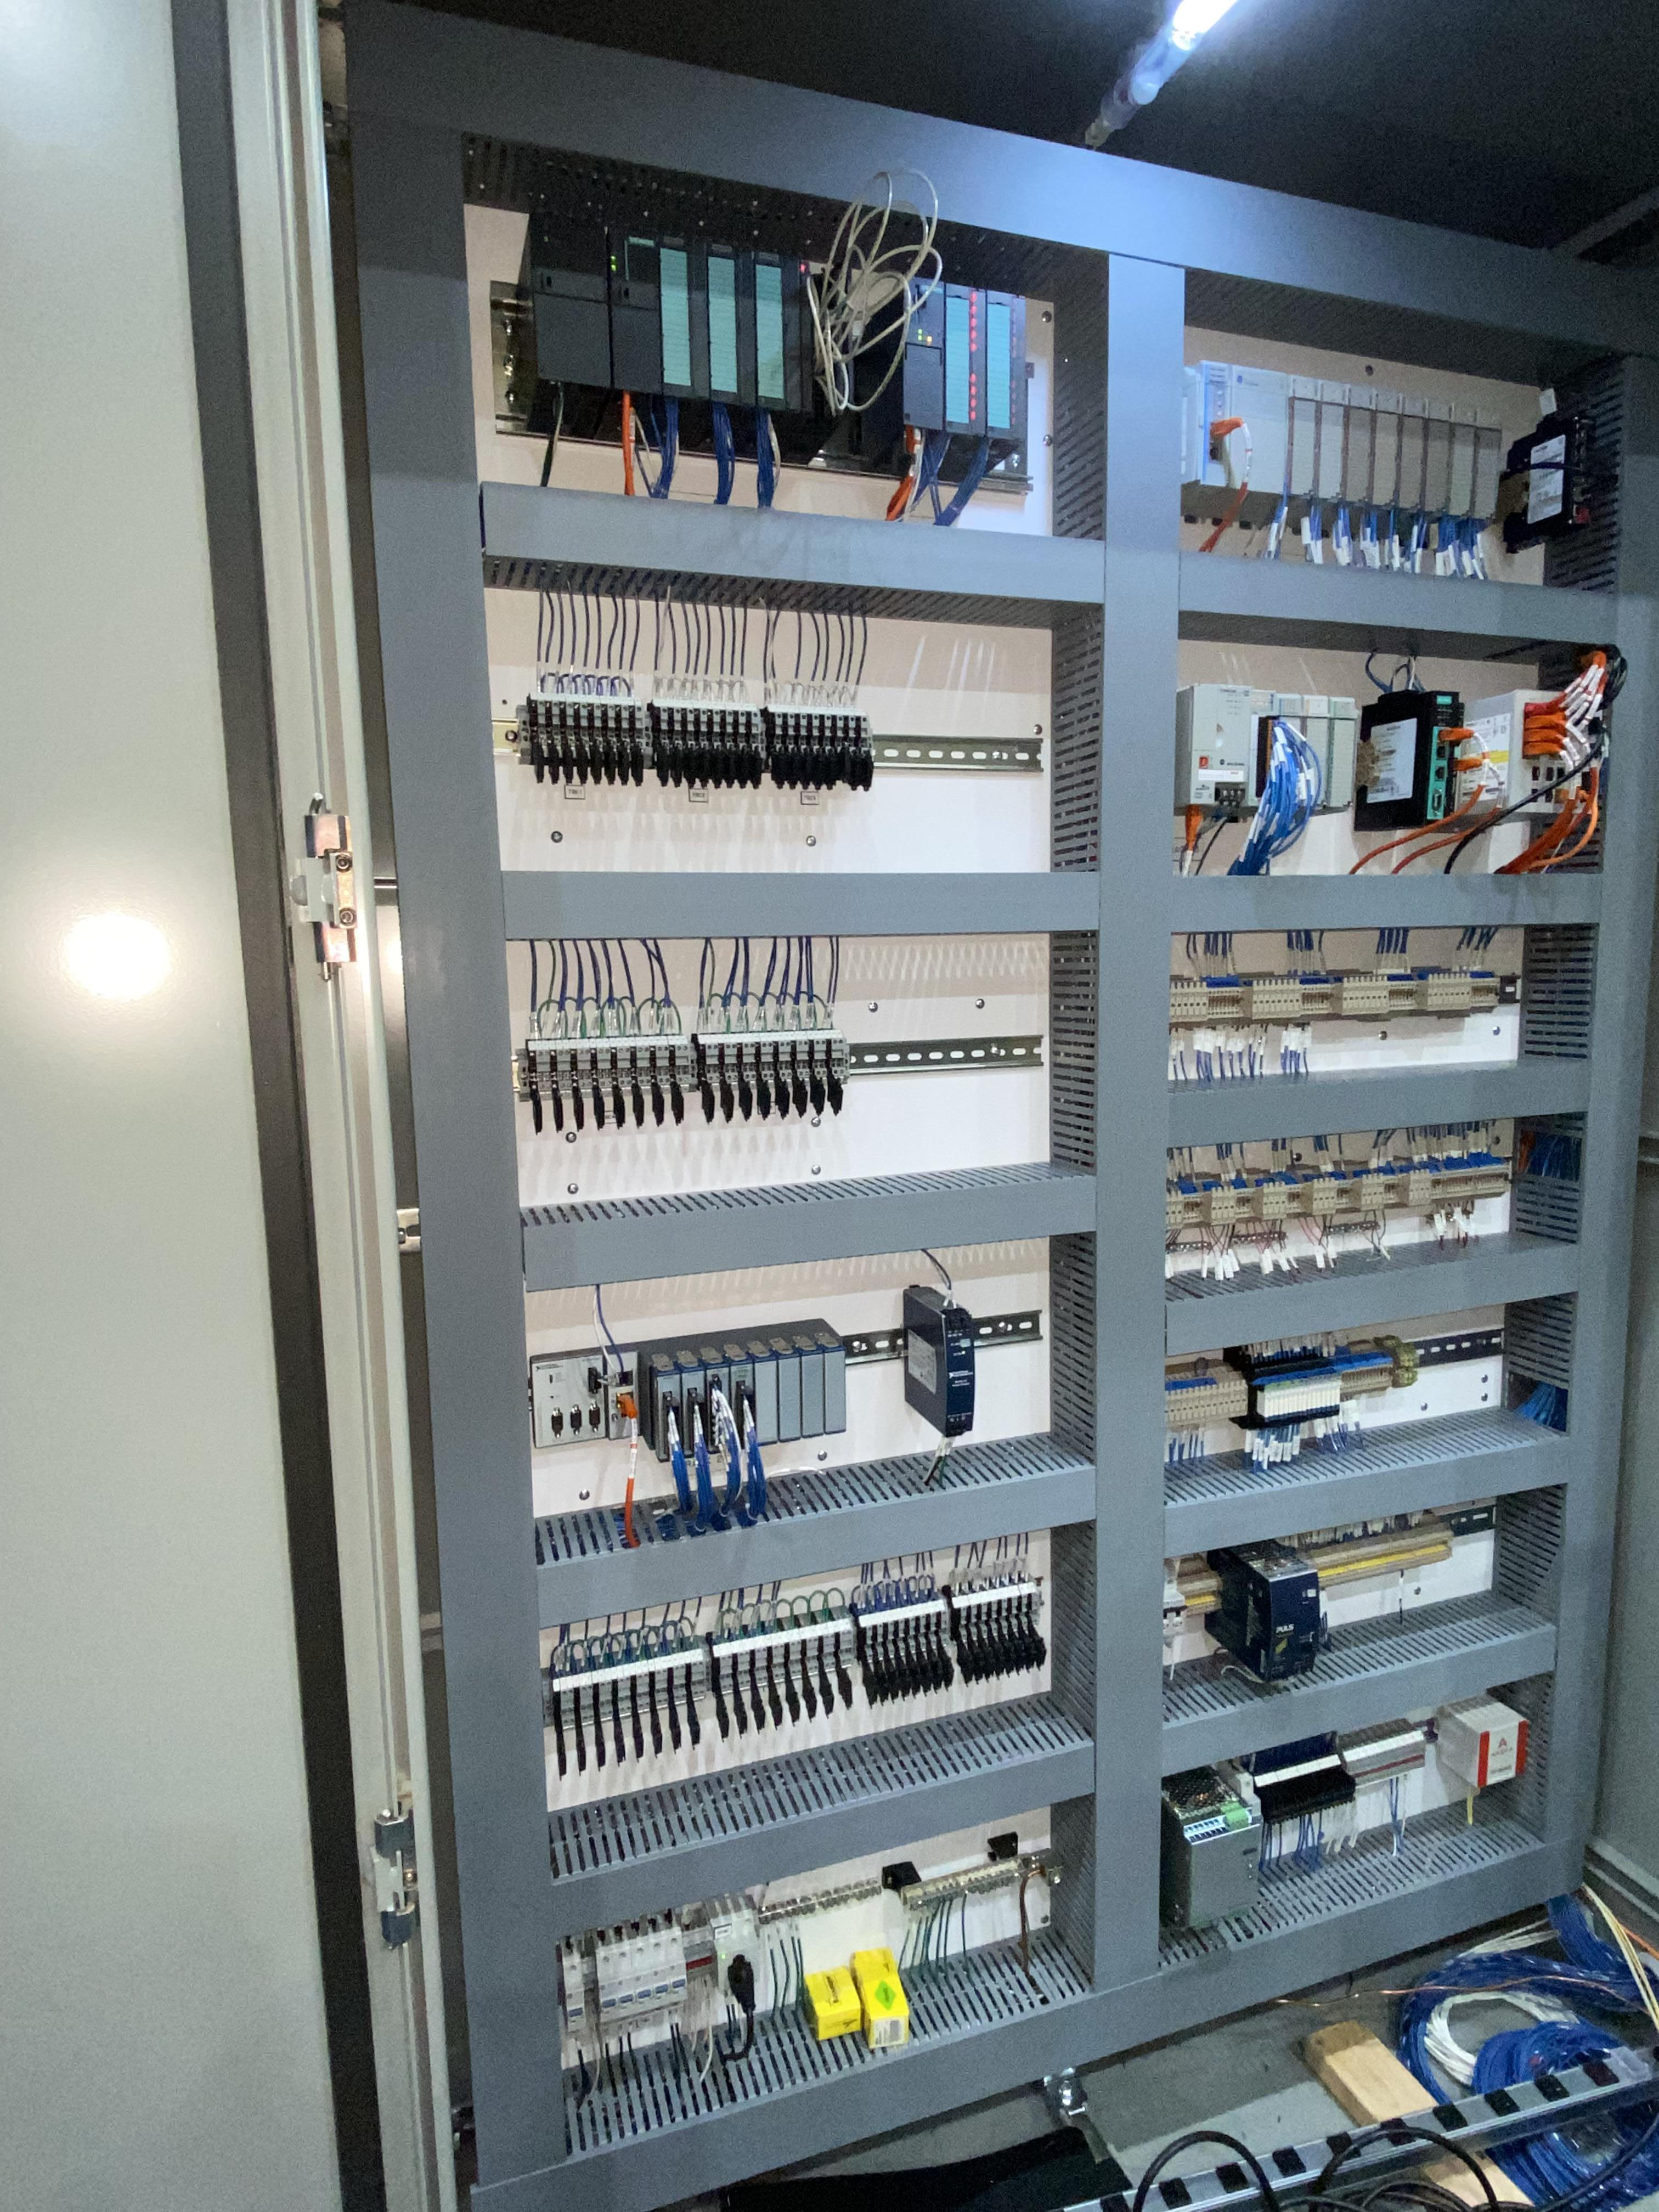AllenBradley: (1185, 679, 1253, 813)
Siemens: (603, 219, 667, 401)
